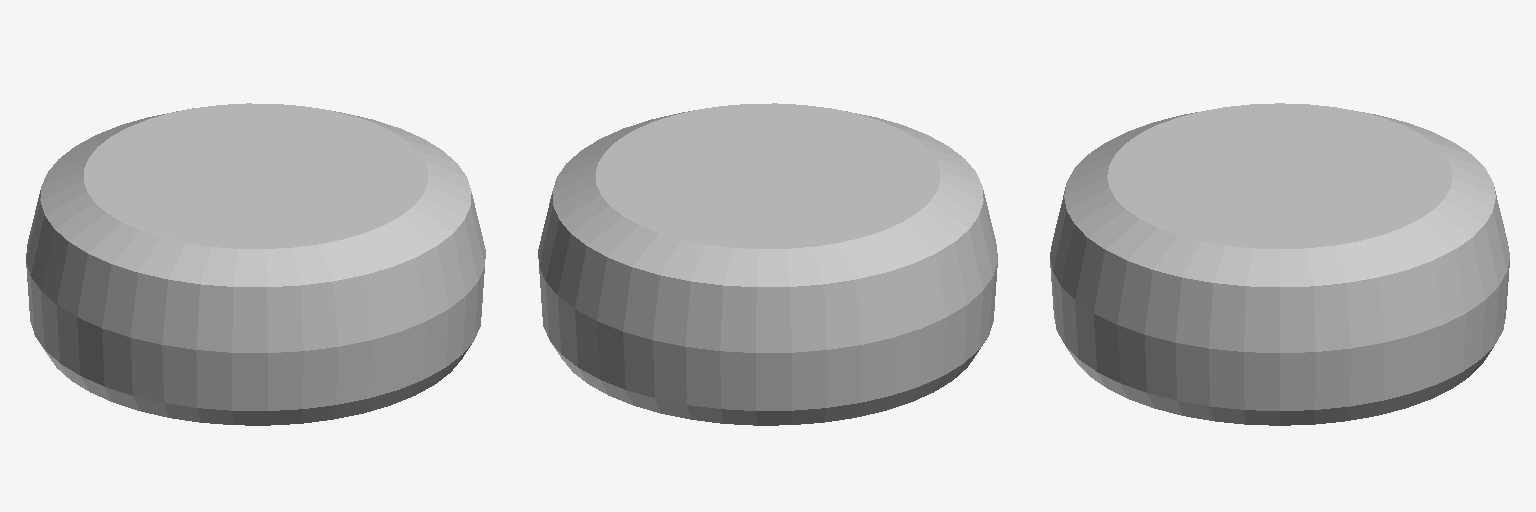
File: Light.obj
3 views of the same model, side by side, from view 1: azimuth 30°, elevation 25°; view 2: azimuth 150°, elevation 25°; view 3: azimuth 270°, elevation 25° (orthographic).
Parts seen in each view (by area): view 1: pCylinder2; view 2: pCylinder2; view 3: pCylinder2.
Boxes of the visible parts, x1=… form: pCylinder2: x1=26, y1=103, x2=485, y2=425; pCylinder2: x1=538, y1=103, x2=997, y2=425; pCylinder2: x1=1050, y1=103, x2=1509, y2=425.
Size of the model in its own units: 1.98 by 0.7539 by 1.98.